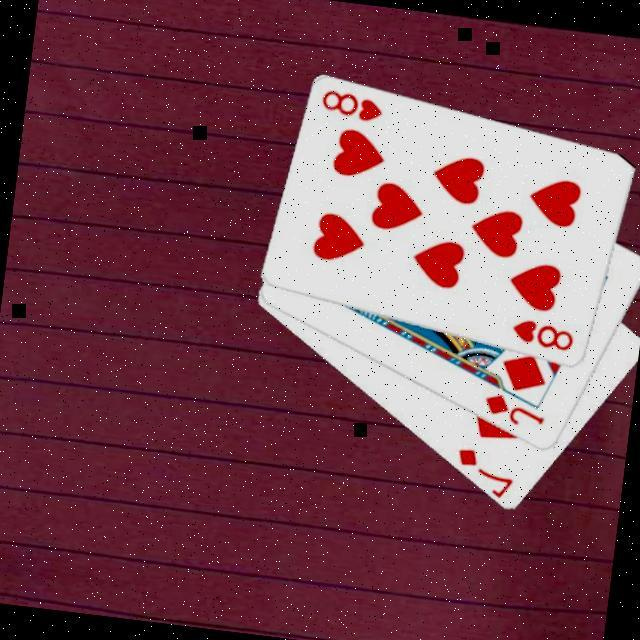7D: (446, 444, 518, 502)
8H: (504, 315, 576, 357), (314, 87, 385, 127)
JD: (476, 389, 548, 433)
